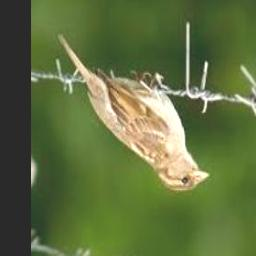Sparrow: (57, 35, 210, 193)
